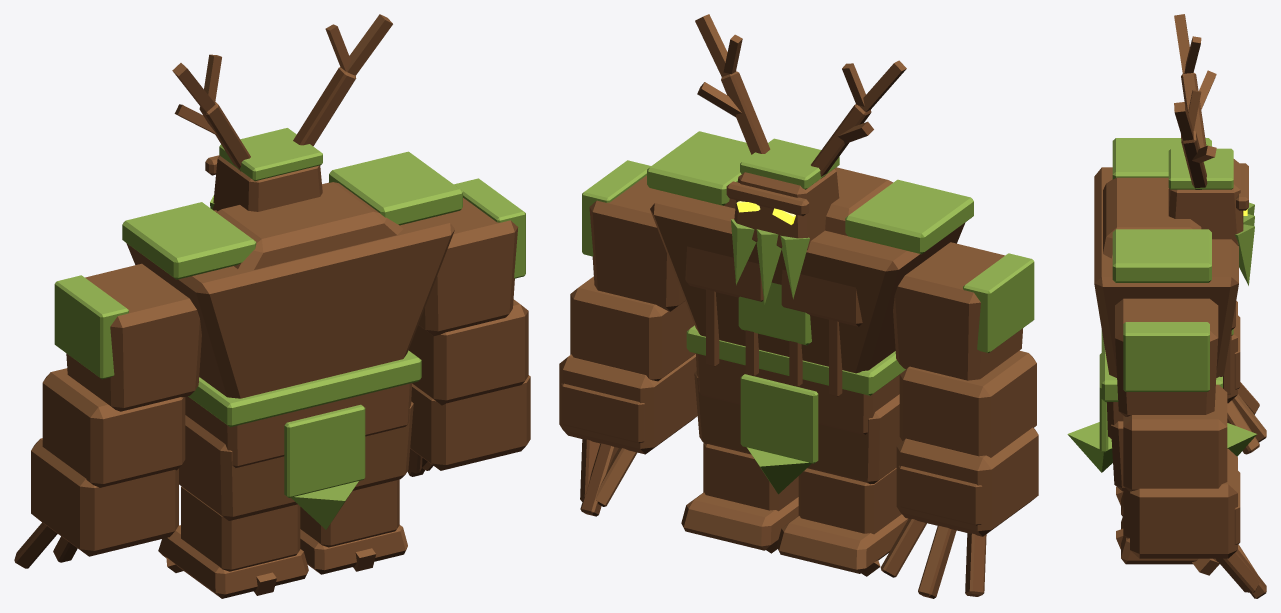
Rendered from forest_treant.glb.
3 renders of one model, left to right at view 1: azimuth 30°, elevation 25°; view 2: azimuth 150°, elevation 25°; view 3: azimuth 270°, elevation 25°, orthographic. The views are drawn at different scales.
Visible parts, largest first — view 1: Torso, ArmL, ArmR, Hips, LegL, LegR; view 2: Torso, ArmL, ArmR, Hips, LegL, LegR; view 3: ArmR, Torso, Hips, LegR, ArmL.
Part boxes in pixels (bbox=[...]): Torso: bbox=[122, 14, 462, 398]; ArmL: bbox=[14, 263, 201, 568]; ArmR: bbox=[407, 178, 530, 476]; Hips: bbox=[185, 350, 421, 529]; LegL: bbox=[158, 415, 308, 598]; LegR: bbox=[300, 401, 413, 574]; Torso: bbox=[647, 14, 973, 396]; ArmL: bbox=[880, 242, 1038, 598]; ArmR: bbox=[559, 160, 697, 516]; Hips: bbox=[686, 325, 905, 494]; LegL: bbox=[776, 394, 908, 576]; LegR: bbox=[681, 371, 798, 553]; ArmR: bbox=[1115, 298, 1266, 598]; Torso: bbox=[1094, 14, 1254, 394]; Hips: bbox=[1067, 330, 1256, 472]; LegR: bbox=[1111, 421, 1219, 575]; ArmL: bbox=[1227, 301, 1266, 454].
Size of the model in its own units: 2.2 by 2.43 by 0.9226.
